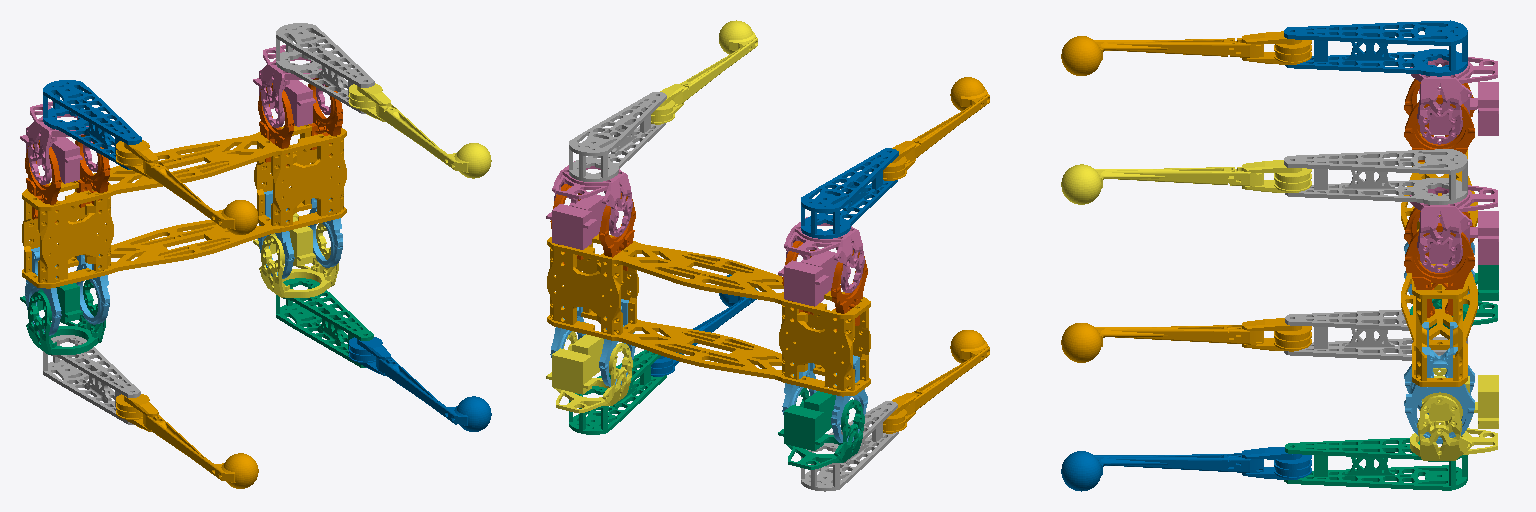
robot.urdf — SImple:
<?xml version="1.0" ?>
<robot name="SImple">

<material name="silver">
  <color rgba="0.700 0.700 0.700 1.000"/>
</material>

<link name="base_link">
  <inertial>
    <origin xyz="-0.49675986701811525 0.1771770371151412 0.32175814914678214" rpy="0 0 0"/>
    <mass value="0.3031669308680312"/>
    <inertia ixx="0.0005505017789097996" iyy="0.0057090607607869215" izz="0.005396693941690386" ixy="-3.090454361691364e-07" iyz="-9.367506770274758e-17" ixz="2.0816681711721685e-17"/>
  </inertial>
  <visual>
    <origin xyz="0 0 0" rpy="0 0 0"/>
    <geometry>
      <mesh filename="meshes/base_link.stl" scale="0.001 0.001 0.001"/>
    </geometry>
    <material name="silver"/>
    <material/>
  </visual>
  <collision>
    <origin xyz="0 0 0" rpy="0 0 0"/>
    <geometry>
      <mesh filename="meshes/base_link.stl" scale="0.001 0.001 0.001"/>
    </geometry>
  </collision>
</link>

<link name="shoulder_socket_bare_1_v1_11">
  <inertial>
    <origin xyz="0.025560544430157428 -0.0173634629277572 -0.02274469323420697" rpy="0 0 0"/>
    <mass value="0.044815237855259746"/>
    <inertia ixx="4.756374991717917e-05" iyy="7.551025191061475e-05" izz="5.8646532445385396e-05" ixy="8.863455197493861e-07" iyz="-5.443962068202822e-07" ixz="1.4297060359951333e-06"/>
  </inertial>
  <visual>
    <origin xyz="0.673276 -0.195219 -0.280393" rpy="0 0 0"/>
    <geometry>
      <mesh filename="meshes/shoulder_socket_bare_1_v1_11.stl" scale="0.001 0.001 0.001"/>
    </geometry>
    <material name="silver"/>
    <material/>
  </visual>
  <collision>
    <origin xyz="0.673276 -0.195219 -0.280393" rpy="0 0 0"/>
    <geometry>
      <mesh filename="meshes/shoulder_socket_bare_1_v1_11.stl" scale="0.001 0.001 0.001"/>
    </geometry>
  </collision>
</link>

<link name="shoulder_bare_1_v1_11">
  <inertial>
    <origin xyz="0.03147471170974603 0.02151965739595474 -0.010196856469469051" rpy="0 0 0"/>
    <mass value="0.10292302681608799"/>
    <inertia ixx="9.866215600323573e-05" iyy="7.669371967806982e-05" izz="9.046452156839802e-05" ixy="5.678991685936774e-08" iyz="-1.1913745138663126e-05" ixz="-9.225282420789738e-08"/>
  </inertial>
  <visual>
    <origin xyz="0.678451 -0.177219 -0.234418" rpy="0 0 0"/>
    <geometry>
      <mesh filename="meshes/shoulder_bare_1_v1_11.stl" scale="0.001 0.001 0.001"/>
    </geometry>
    <material name="silver"/>
    <material/>
  </visual>
  <collision>
    <origin xyz="0.678451 -0.177219 -0.234418" rpy="0 0 0"/>
    <geometry>
      <mesh filename="meshes/shoulder_bare_1_v1_11.stl" scale="0.001 0.001 0.001"/>
    </geometry>
  </collision>
</link>

<link name="shoulder_bare_1_v11">
  <inertial>
    <origin xyz="-0.031525288290257414 0.021519471138341267 -0.010196856469468635" rpy="0 0 0"/>
    <mass value="0.10292302681608799"/>
    <inertia ixx="9.866215600323747e-05" iyy="7.669371967806635e-05" izz="9.046452156840148e-05" ixy="5.678991685936774e-08" iyz="-1.1913745138663126e-05" ixz="-9.225282421136682e-08"/>
  </inertial>
  <visual>
    <origin xyz="0.315451 -0.177218 -0.234418" rpy="0 0 0"/>
    <geometry>
      <mesh filename="meshes/shoulder_bare_1_v11.stl" scale="0.001 0.001 0.001"/>
    </geometry>
    <material name="silver"/>
    <material/>
  </visual>
  <collision>
    <origin xyz="0.315451 -0.177218 -0.234418" rpy="0 0 0"/>
    <geometry>
      <mesh filename="meshes/shoulder_bare_1_v11.stl" scale="0.001 0.001 0.001"/>
    </geometry>
  </collision>
</link>

<link name="LegXIVII.base4_bare_1_v11">
  <inertial>
    <origin xyz="0.007540446682198165 -0.11757825398577894 -0.013901885334578923" rpy="0 0 0"/>
    <mass value="0.08425783736908372"/>
    <inertia ixx="0.0007091647024764702" iyy="1.7445252282704757e-05" izz="0.0007171022470015536" ixy="6.031149162490524e-05" iyz="6.394912965487776e-09" ixz="-9.930829888461778e-09"/>
  </inertial>
  <visual>
    <origin xyz="0.346951 -0.032218 -0.179618" rpy="0 0 0"/>
    <geometry>
      <mesh filename="meshes/LegXIVII.base4_bare_1_v11.stl" scale="0.001 0.001 0.001"/>
    </geometry>
    <material name="silver"/>
    <material/>
  </visual>
  <collision>
    <origin xyz="0.346951 -0.032218 -0.179618" rpy="0 0 0"/>
    <geometry>
      <mesh filename="meshes/LegXIVII.base4_bare_1_v11.stl" scale="0.001 0.001 0.001"/>
    </geometry>
  </collision>
</link>

<link name="shoulder_socket_bare_1_v1Mirror_11">
  <inertial>
    <origin xyz="0.025560646374997553 0.01863544913423798 0.022745200448302028" rpy="0 0 0"/>
    <mass value="0.04481561935245843"/>
    <inertia ixx="4.756434506601563e-05" iyy="7.551101132030266e-05" izz="5.864708107260197e-05" ixy="8.863909571801137e-07" iyz="5.444906398246671e-07" ixz="-1.4298187419742314e-06"/>
  </inertial>
  <visual>
    <origin xyz="0.673276 -0.159219 -0.363123" rpy="0 0 0"/>
    <geometry>
      <mesh filename="meshes/shoulder_socket_bare_1_v1Mirror_11.stl" scale="0.001 0.001 0.001"/>
    </geometry>
    <material name="silver"/>
    <material/>
  </visual>
  <collision>
    <origin xyz="0.673276 -0.159219 -0.363123" rpy="0 0 0"/>
    <geometry>
      <mesh filename="meshes/shoulder_socket_bare_1_v1Mirror_11.stl" scale="0.001 0.001 0.001"/>
    </geometry>
  </collision>
</link>

<link name="shoulder_bare_1_v1Mirror2">
  <inertial>
    <origin xyz="-0.03152528833233337 0.021519662139964174 0.010197149103659209" rpy="0 0 0"/>
    <mass value="0.10292297488236483"/>
    <inertia ixx="9.866212277473765e-05" iyy="7.669361517242262e-05" izz="9.046444386263258e-05" ixy="5.678984783298591e-08" iyz="1.1913732534934302e-05" ixz="9.225279836572176e-08"/>
  </inertial>
  <visual>
    <origin xyz="0.615451 -0.177218 -0.409098" rpy="0 0 0"/>
    <geometry>
      <mesh filename="meshes/shoulder_bare_1_v1Mirror2.stl" scale="0.001 0.001 0.001"/>
    </geometry>
    <material name="silver"/>
    <material/>
  </visual>
  <collision>
    <origin xyz="0.615451 -0.177218 -0.409098" rpy="0 0 0"/>
    <geometry>
      <mesh filename="meshes/shoulder_bare_1_v1Mirror2.stl" scale="0.001 0.001 0.001"/>
    </geometry>
  </collision>
</link>

<link name="Hip_bare_1_v1Mirror_11">
  <inertial>
    <origin xyz="4.234710950790088e-07 -0.05058422561816189 0.01860013552569284" rpy="0 0 0"/>
    <mass value="0.048586299438942826"/>
    <inertia ixx="0.00014114516855578615" iyy="1.7475134174452234e-05" izz="0.00013695057408792417" ixy="-1.541325183804232e-10" iyz="8.332934672387882e-07" ixz="-3.020104999418294e-12"/>
  </inertial>
  <visual>
    <origin xyz="0.346951 -0.177218 -0.459598" rpy="0 0 0"/>
    <geometry>
      <mesh filename="meshes/Hip_bare_1_v1Mirror_11.stl" scale="0.001 0.001 0.001"/>
    </geometry>
    <material name="silver"/>
    <material/>
  </visual>
  <collision>
    <origin xyz="0.346951 -0.177218 -0.459598" rpy="0 0 0"/>
    <geometry>
      <mesh filename="meshes/Hip_bare_1_v1Mirror_11.stl" scale="0.001 0.001 0.001"/>
    </geometry>
  </collision>
</link>

<link name="LegXIVII.base4_bare_1_v1Mirror_11">
  <inertial>
    <origin xyz="0.007540446650054933 -0.11757806585024297 -0.013897815740738673" rpy="0 0 0"/>
    <mass value="0.08425783988504587"/>
    <inertia ixx="0.0007091647134796035" iyy="1.7445253281532513e-05" izz="0.0007171022568680657" ixy="6.0311491779737984e-05" iyz="-6.398339513161849e-09" ixz="9.930995803486553e-09"/>
  </inertial>
  <visual>
    <origin xyz="0.646951 -0.032218 -0.491698" rpy="0 0 0"/>
    <geometry>
      <mesh filename="meshes/LegXIVII.base4_bare_1_v1Mirror_11.stl" scale="0.001 0.001 0.001"/>
    </geometry>
    <material name="silver"/>
    <material/>
  </visual>
  <collision>
    <origin xyz="0.646951 -0.032218 -0.491698" rpy="0 0 0"/>
    <geometry>
      <mesh filename="meshes/LegXIVII.base4_bare_1_v1Mirror_11.stl" scale="0.001 0.001 0.001"/>
    </geometry>
  </collision>
</link>

<link name="shoulder_socket_bare_1_v11">
  <inertial>
    <origin xyz="-0.024279366795131763 0.01733626536840069 -0.021770078073989174" rpy="0 0 0"/>
    <mass value="0.04301073381711514"/>
    <inertia ixx="4.545407958865804e-05" iyy="7.219585766804829e-05" izz="5.6346014963478026e-05" ixy="8.498440310857232e-07" iyz="5.166086429093941e-07" ixz="-9.688718319343995e-08"/>
  </inertial>
  <visual>
    <origin xyz="0.320626 -0.159219 -0.280393" rpy="0 0 0"/>
    <geometry>
      <mesh filename="meshes/shoulder_socket_bare_1_v11.stl" scale="0.001 0.001 0.001"/>
    </geometry>
    <material name="silver"/>
    <material/>
  </visual>
  <collision>
    <origin xyz="0.320626 -0.159219 -0.280393" rpy="0 0 0"/>
    <geometry>
      <mesh filename="meshes/shoulder_socket_bare_1_v11.stl" scale="0.001 0.001 0.001"/>
    </geometry>
  </collision>
</link>

<link name="Hip_bare_1_v1_11">
  <inertial>
    <origin xyz="4.23471094412875e-07 -0.0505842256181612 -0.01859983723211109" rpy="0 0 0"/>
    <mass value="0.04858629943894289"/>
    <inertia ixx="0.00014114516855578399" iyy="1.7475134174454836e-05" izz="0.00013695057408792417" ixy="-1.5413251751306145e-10" iyz="-8.332934672387882e-07" ixz="3.0201063004609008e-12"/>
  </inertial>
  <visual>
    <origin xyz="0.346951 -0.177218 -0.183918" rpy="0 0 0"/>
    <geometry>
      <mesh filename="meshes/Hip_bare_1_v1_11.stl" scale="0.001 0.001 0.001"/>
    </geometry>
    <material name="silver"/>
    <material/>
  </visual>
  <collision>
    <origin xyz="0.346951 -0.177218 -0.183918" rpy="0 0 0"/>
    <geometry>
      <mesh filename="meshes/Hip_bare_1_v1_11.stl" scale="0.001 0.001 0.001"/>
    </geometry>
  </collision>
</link>

<link name="LegXIVII.base4_bare_1_v1Mirror2">
  <inertial>
    <origin xyz="0.007540446650052768 -0.11757825210785741 -0.013897815740742336" rpy="0 0 0"/>
    <mass value="0.08425783988504587"/>
    <inertia ixx="0.0007091647134796104" iyy="1.7445253281535983e-05" izz="0.0007171022568680831" ixy="6.031149177974189e-05" iyz="-6.3983395153302536e-09" ixz="9.930995803486553e-09"/>
  </inertial>
  <visual>
    <origin xyz="0.346951 -0.032218 -0.491698" rpy="0 0 0"/>
    <geometry>
      <mesh filename="meshes/LegXIVII.base4_bare_1_v1Mirror2.stl" scale="0.001 0.001 0.001"/>
    </geometry>
    <material name="silver"/>
    <material/>
  </visual>
  <collision>
    <origin xyz="0.346951 -0.032218 -0.491698" rpy="0 0 0"/>
    <geometry>
      <mesh filename="meshes/LegXIVII.base4_bare_1_v1Mirror2.stl" scale="0.001 0.001 0.001"/>
    </geometry>
  </collision>
</link>

<link name="Hip_bare_1_v1Mirror1">
  <inertial>
    <origin xyz="4.2347109574514263e-07 -0.05058403936054723 0.01860013552569434" rpy="0 0 0"/>
    <mass value="0.048586299438942826"/>
    <inertia ixx="0.0001411451685557931" iyy="1.7475134174459173e-05" izz="0.0001369505740879233" ixy="-1.541325183804232e-10" iyz="8.332934672383545e-07" ixz="-3.020104999418294e-12"/>
  </inertial>
  <visual>
    <origin xyz="0.646951 -0.177218 -0.459598" rpy="0 0 0"/>
    <geometry>
      <mesh filename="meshes/Hip_bare_1_v1Mirror1.stl" scale="0.001 0.001 0.001"/>
    </geometry>
    <material name="silver"/>
    <material/>
  </visual>
  <collision>
    <origin xyz="0.646951 -0.177218 -0.459598" rpy="0 0 0"/>
    <geometry>
      <mesh filename="meshes/Hip_bare_1_v1Mirror1.stl" scale="0.001 0.001 0.001"/>
    </geometry>
  </collision>
</link>

<link name="shoulder_socket_bare_1_v1Mirror2">
  <inertial>
    <origin xyz="-0.02555971426040521 0.017363044783754944 0.03693520044830295" rpy="0 0 0"/>
    <mass value="0.04481561935245843"/>
    <inertia ixx="4.756434506601563e-05" iyy="7.55110113203096e-05" izz="5.864708107260284e-05" ixy="8.863909571801137e-07" iyz="-5.444906398242334e-07" ixz="1.429818741973364e-06"/>
  </inertial>
  <visual>
    <origin xyz="0.320626 -0.159219 -0.348933" rpy="0 0 0"/>
    <geometry>
      <mesh filename="meshes/shoulder_socket_bare_1_v1Mirror2.stl" scale="0.001 0.001 0.001"/>
    </geometry>
    <material name="silver"/>
    <material/>
  </visual>
  <collision>
    <origin xyz="0.320626 -0.159219 -0.348933" rpy="0 0 0"/>
    <geometry>
      <mesh filename="meshes/shoulder_socket_bare_1_v1Mirror2.stl" scale="0.001 0.001 0.001"/>
    </geometry>
  </collision>
</link>

<link name="shoulder_bare_1_v1Mirror_11">
  <inertial>
    <origin xyz="0.03147471166766552 0.021519475882350536 0.010197149103659986" rpy="0 0 0"/>
    <mass value="0.10292297488236483"/>
    <inertia ixx="9.866212277473418e-05" iyy="7.669361517241916e-05" izz="9.04644438626187e-05" ixy="5.67898478286491e-08" iyz="1.1913732534934302e-05" ixz="9.225279836051758e-08"/>
  </inertial>
  <visual>
    <origin xyz="0.378451 -0.177218 -0.409098" rpy="0 0 0"/>
    <geometry>
      <mesh filename="meshes/shoulder_bare_1_v1Mirror_11.stl" scale="0.001 0.001 0.001"/>
    </geometry>
    <material name="silver"/>
    <material/>
  </visual>
  <collision>
    <origin xyz="0.378451 -0.177218 -0.409098" rpy="0 0 0"/>
    <geometry>
      <mesh filename="meshes/shoulder_bare_1_v1Mirror_11.stl" scale="0.001 0.001 0.001"/>
    </geometry>
  </collision>
</link>

<link name="Hip_bare_1_v11">
  <inertial>
    <origin xyz="4.234710982986556e-07 -0.0505840393605467 -0.018599837232111838" rpy="0 0 0"/>
    <mass value="0.04858629943894289"/>
    <inertia ixx="0.00014114516855578485" iyy="1.7475134174445295e-05" izz="0.00013695057408791636" ixy="-1.5413251924778493e-10" iyz="-8.33293467239005e-07" ixz="3.020104999418294e-12"/>
  </inertial>
  <visual>
    <origin xyz="0.646951 -0.177219 -0.183918" rpy="0 0 0"/>
    <geometry>
      <mesh filename="meshes/Hip_bare_1_v11.stl" scale="0.001 0.001 0.001"/>
    </geometry>
    <material name="silver"/>
    <material/>
  </visual>
  <collision>
    <origin xyz="0.646951 -0.177219 -0.183918" rpy="0 0 0"/>
    <geometry>
      <mesh filename="meshes/Hip_bare_1_v11.stl" scale="0.001 0.001 0.001"/>
    </geometry>
  </collision>
</link>

<link name="LegXIVII.base4_bare_1_v1_11">
  <inertial>
    <origin xyz="0.007540446682202773 -0.1175780677281621 -0.013901885334580338" rpy="0 0 0"/>
    <mass value="0.08425783736908372"/>
    <inertia ixx="0.0007091647024764689" iyy="1.7445252282692614e-05" izz="0.0007171022470015345" ixy="6.031149162490437e-05" iyz="6.394912963102531e-09" ixz="-9.930829887594417e-09"/>
  </inertial>
  <visual>
    <origin xyz="0.646951 -0.032219 -0.179618" rpy="0 0 0"/>
    <geometry>
      <mesh filename="meshes/LegXIVII.base4_bare_1_v1_11.stl" scale="0.001 0.001 0.001"/>
    </geometry>
    <material name="silver"/>
    <material/>
  </visual>
  <collision>
    <origin xyz="0.646951 -0.032219 -0.179618" rpy="0 0 0"/>
    <geometry>
      <mesh filename="meshes/LegXIVII.base4_bare_1_v1_11.stl" scale="0.001 0.001 0.001"/>
    </geometry>
  </collision>
</link>

<joint name="Rigid_FR" type="fixed">
  <origin xyz="-0.673276 0.195219 0.280393" rpy="0 0 0"/>
  <parent link="base_link"/>
  <child link="shoulder_socket_bare_1_v1_11"/>
</joint>

<joint name="Revolute_FR_Hip" type="revolute">
  <origin xyz="-0.005175 -0.018 -0.045975" rpy="0 0 0"/>
  <parent link="shoulder_socket_bare_1_v1_11"/>
  <child link="shoulder_bare_1_v1_11"/>
  <axis xyz="1.0 0.0 0.0"/>
  <limit>
    <lower>-1.0472</lower>
    <upper>0.3491</upper>
  </limit>
</joint>
<transmission name="Revolute_FR_Hip_tran">
  <type>transmission_interface/SimpleTransmission</type>
  <joint name="Revolute_FR_Hip">
    <hardwareInterface>PositionJointInterface</hardwareInterface>
  </joint>
  <actuator name="Revolute_FR_Hip_actr">
    <hardwareInterface>PositionJointInterface</hardwareInterface>
    <mechanicalReduction>1.8</mechanicalReduction>
  </actuator>
</transmission>

<joint name="Revolute_BR_Hip" type="revolute">
  <origin xyz="0.005175 0.017999 -0.045975" rpy="0 0 0"/>
  <parent link="shoulder_socket_bare_1_v11"/>
  <child link="shoulder_bare_1_v11"/>
  <axis xyz="1.0 0.0 0.0"/>
  <limit>
    <lower>-1.0472</lower>
    <upper>0.3491</upper>
  </limit>
</joint>
<transmission name="Revolute_BR_Hip_tran">
  <type>transmission_interface/SimpleTransmission</type>
  <joint name="Revolute_BR_Hip">
    <hardwareInterface>PositionJointInterface</hardwareInterface>
  </joint>
  <actuator name="Revolute_BR_Hip_actr">
    <hardwareInterface>PositionJointInterface</hardwareInterface>
    <mechanicalReduction>1.8</mechanicalReduction>
  </actuator>
</transmission>

<joint name="Revolute_BR_Knee" type="revolute">
  <origin xyz="0.0 -0.145 -0.0043" rpy="0 0 0"/>
  <parent link="Hip_bare_1_v1_11"/>
  <child link="LegXIVII.base4_bare_1_v11"/>
  <axis xyz="-0.0 0.0 1.0"/>
  <limit>
    <lower>-0.3491</lower>
    <upper>2.2689</upper>
  </limit>
</joint>
<transmission name="Revolute_BR_Knee_tran">
  <type>transmission_interface/SimpleTransmission</type>
  <joint name="Revolute_BR_Knee">
    <hardwareInterface>PositionJointInterface</hardwareInterface>
  </joint>
  <actuator name="Revolute_BR_Knee_actr">
    <hardwareInterface>PositionJointInterface</hardwareInterface>
    <mechanicalReduction>1.8</mechanicalReduction>
  </actuator>
</transmission>

<joint name="Rigid_FL" type="fixed">
  <origin xyz="-0.673276 0.159219 0.363123" rpy="0 0 0"/>
  <parent link="base_link"/>
  <child link="shoulder_socket_bare_1_v1Mirror_11"/>
</joint>

<joint name="Revolute_FL_Hip" type="continuous">
  <origin xyz="0.057825 0.017999 0.045975" rpy="0 0 0"/>
  <parent link="shoulder_socket_bare_1_v1Mirror_11"/>
  <child link="shoulder_bare_1_v1Mirror2"/>
  <axis xyz="-1.0 -0.0 -0.0"/>
  <limit>
    <lower>-1.0472</lower>
    <upper>0.3491</upper>
  </limit>
</joint>

<transmission name="Revolute_FL_Hip_tran">
  <type>transmission_interface/SimpleTransmission</type>
  <joint name="Revolute_FL_Hip">
    <hardwareInterface>PositionJointInterface</hardwareInterface>
  </joint>
  <actuator name="Revolute_FL_Hip_actr">
    <hardwareInterface>PositionJointInterface</hardwareInterface>
    <mechanicalReduction>1.8</mechanicalReduction>
  </actuator>
</transmission>

<joint name="Revolute_BL_Thigh" type="revolute">
  <origin xyz="0.0315 0.0 0.0505" rpy="0 0 0"/>
  <parent link="shoulder_bare_1_v1Mirror_11"/>
  <child link="Hip_bare_1_v1Mirror_11"/>
  <axis xyz="-0.0 0.0 -1.0"/>
  <limit>
      <lower>-1.2217</lower>
      <upper>1.2217</upper>
  </limit>
</joint>

<transmission name="Revolute_BL_Thigh_tran">
  <type>transmission_interface/SimpleTransmission</type>
  <joint name="Revolute_BL_Thigh">
    <hardwareInterface>PositionJointInterface</hardwareInterface>
  </joint>
  <actuator name="Revolute_BL_Thigh_actr">
    <hardwareInterface>PositionJointInterface</hardwareInterface>
    <mechanicalReduction>1.8</mechanicalReduction>
  </actuator>
</transmission>

<joint name="Revolute_FL_Knee" type="revolute">
  <origin xyz="0.0 -0.145 0.0321" rpy="0 0 0"/>
  <parent link="Hip_bare_1_v1Mirror1"/>
  <child link="LegXIVII.base4_bare_1_v1Mirror_11"/>
  <axis xyz="0.0 -0.0 1.0"/>
  <limit>
    <lower>-0.3491</lower>
    <upper>2.2689</upper>
  </limit>
</joint>
<transmission name="Revolute_FL_Knee_tran">
  <type>transmission_interface/SimpleTransmission</type>
  <joint name="Revolute_FL_Knee">
    <hardwareInterface>PositionJointInterface</hardwareInterface>
  </joint>
  <actuator name="Revolute_FL_Knee_actr">
    <hardwareInterface>PositionJointInterface</hardwareInterface>
    <mechanicalReduction>1.8</mechanicalReduction>
  </actuator>
</transmission>

<joint name="Rigid_BR" type="fixed">
  <origin xyz="-0.320626 0.159219 0.280393" rpy="0 0 0"/>
  <parent link="base_link"/>
  <child link="shoulder_socket_bare_1_v11"/>
</joint>

<joint name="Revolute_BR_Thigh" type="revolute">
  <origin xyz="-0.0315 0.0 -0.0505" rpy="0 0 0"/>
  <parent link="shoulder_bare_1_v11"/>
  <child link="Hip_bare_1_v1_11"/>
  <axis xyz="-0.0 0.0 -1.0"/>
  <limit>
      <lower>-1.2217</lower>
      <upper>1.2217</upper>
  </limit>
</joint>
<transmission name="Revolute_BR_Thigh_tran">
  <type>transmission_interface/SimpleTransmission</type>
  <joint name="Revolute_BR_Thigh">
    <hardwareInterface>PositionJointInterface</hardwareInterface>
  </joint>
  <actuator name="Revolute_BR_Thigh_actr">
    <hardwareInterface>PositionJointInterface</hardwareInterface>
    <mechanicalReduction>1.8</mechanicalReduction>
  </actuator>
</transmission>

<joint name="Revolute_BL_Knee" type="revolute">
  <origin xyz="0.0 -0.145 0.0321" rpy="0 0 0"/>
  <parent link="Hip_bare_1_v1Mirror_11"/>
  <child link="LegXIVII.base4_bare_1_v1Mirror2"/>
  <axis xyz="0.0 -0.0 1.0"/>
  <limit>
    <lower>-2.2689</lower>
    <upper>0.3491</upper>
  </limit>
</joint>
<transmission name="Revolute_BL_Knee_tran">
  <type>transmission_interface/SimpleTransmission</type>
  <joint name="Revolute_BL_Knee">
    <hardwareInterface>PositionJointInterface</hardwareInterface>
  </joint>
  <actuator name="Revolute_BL_Knee_actr">
    <hardwareInterface>PositionJointInterface</hardwareInterface>
    <mechanicalReduction>1.8</mechanicalReduction>
  </actuator>
</transmission>

<joint name="Revolute_FL_Thigh" type="revolute">
  <origin xyz="-0.0315 0.0 0.0505" rpy="0 0 0"/>
  <parent link="shoulder_bare_1_v1Mirror2"/>
  <child link="Hip_bare_1_v1Mirror1"/>
  <axis xyz="0.0 0.0 -1.0"/>
  <limit>
      <lower>-1.2217</lower>
      <upper>1.2217</upper>
  </limit>
</joint>

<transmission name="Revolute_FL_Thigh_tran">
  <type>transmission_interface/SimpleTransmission</type>
  <joint name="Revolute_FL_Thigh">
    <hardwareInterface>PositionJointInterface</hardwareInterface>
  </joint>
  <actuator name="Revolute_FL_Thigh_actr">
    <hardwareInterface>PositionJointInterface</hardwareInterface>
    <mechanicalReduction>1.8</mechanicalReduction>
  </actuator>
</transmission>

<joint name="Rigid_BL" type="fixed">
  <origin xyz="-0.320626 0.159219 0.348933" rpy="0 0 0"/>
  <parent link="base_link"/>
  <child link="shoulder_socket_bare_1_v1Mirror2"/>
</joint>

<joint name="Revolute_BL_Hip" type="revolute">
  <origin xyz="-0.057825 0.017999 0.060165" rpy="0 0 0"/>
  <parent link="shoulder_socket_bare_1_v1Mirror2"/>
  <child link="shoulder_bare_1_v1Mirror_11"/>
  <axis xyz="-1.0 -0.0 0.0"/>
  <limit>
    <lower>-1.0472</lower>
    <upper>0.3491</upper>
  </limit>
</joint>

<transmission name="Revolute_BL_Hip_tran">
  <type>transmission_interface/SimpleTransmission</type>
  <joint name="Revolute_BL_Hip">
    <hardwareInterface>PositionJointInterface</hardwareInterface>
  </joint>
  <actuator name="Revolute_BL_Hip_actr">
    <hardwareInterface>PositionJointInterface</hardwareInterface>
    <mechanicalReduction>1.8</mechanicalReduction>
  </actuator>
</transmission>

<joint name="Revolute_FR_Thigh" type="revolute">
  <origin xyz="0.0315 0.0 -0.0505" rpy="0 0 0"/>
  <parent link="shoulder_bare_1_v1_11"/>
  <child link="Hip_bare_1_v11"/>
  <axis xyz="0.0 0.0 -1.0"/>
  <limit>
      <lower>-1.2217</lower>
      <upper>1.2217</upper>
  </limit>
</joint>

<transmission name="Revolute_FR_Thigh_tran">
  <type>transmission_interface/SimpleTransmission</type>
  <joint name="Revolute_FR_Thigh">
    <hardwareInterface>PositionJointInterface</hardwareInterface>
  </joint>
  <actuator name="Revolute_FR_Thigh_actr">
    <hardwareInterface>PositionJointInterface</hardwareInterface>
    <mechanicalReduction>1.8</mechanicalReduction>
  </actuator>
</transmission>

<joint name="Revolute_FR_Knee" type="revolute">
  <origin xyz="0.0 -0.145 -0.0043" rpy="0 0 0"/>
  <parent link="Hip_bare_1_v11"/>
  <child link="LegXIVII.base4_bare_1_v1_11"/>
  <axis xyz="-0.0 -0.0 1.0"/>
  <limit>
    <lower>-0.3491</lower>
    <upper>2.2689</upper>
  </limit>
</joint>

<transmission name="Revolute_FR_Knee_tran">
  <type>transmission_interface/SimpleTransmission</type>
  <joint name="Revolute_FR_Knee">
    <hardwareInterface>PositionJointInterface</hardwareInterface>
  </joint>
  <actuator name="Revolute_FR_Knee_actr">
    <hardwareInterface>PositionJointInterface</hardwareInterface>
    <mechanicalReduction>1.8</mechanicalReduction>
  </actuator>
</transmission>

</robot>

--- What the picture shows (computed from the rendered views, not written in the file) ---
Views: 3 orthographic renders of the robot side by side, from view 1: azimuth 30°, elevation 25°; view 2: azimuth 150°, elevation 25°; view 3: azimuth 270°, elevation 25°.
Model SImple with 17 links and 16 joints (11 revolute, 1 continuous, 4 fixed), rooted at base_link, posed every joint at zero.
Links seen in each view (by area): view 1: base_link, Hip_bare_1_v1Mirror1, Hip_bare_1_v1Mirror_11, Hip_bare_1_v11, Hip_bare_1_v1_11, shoulder_bare_1_v11, shoulder_bare_1_v1_11, LegXIVII.base4_bare_1_v11, LegXIVII.base4_bare_1_v1_11, LegXIVII.base4_bare_1_v1Mirror2, LegXIVII.base4_bare_1_v1Mirror_11, shoulder_bare_1_v1Mirror_11 (+5 smaller); view 2: base_link, Hip_bare_1_v1Mirror1, Hip_bare_1_v1Mirror_11, shoulder_bare_1_v1Mirror2, shoulder_bare_1_v1Mirror_11, shoulder_bare_1_v11, shoulder_bare_1_v1_11, Hip_bare_1_v11, LegXIVII.base4_bare_1_v1_11, LegXIVII.base4_bare_1_v1Mirror2, LegXIVII.base4_bare_1_v1Mirror_11, Hip_bare_1_v1_11 (+5 smaller); view 3: Hip_bare_1_v1Mirror1, Hip_bare_1_v1Mirror_11, Hip_bare_1_v1_11, base_link, LegXIVII.base4_bare_1_v11, LegXIVII.base4_bare_1_v1_11, LegXIVII.base4_bare_1_v1Mirror_11, LegXIVII.base4_bare_1_v1Mirror2, shoulder_bare_1_v1Mirror_11, shoulder_bare_1_v1Mirror2, shoulder_bare_1_v11, Hip_bare_1_v11 (+4 smaller).
Boxes of the visible links, <box> form: base_link: <box>22,123,346,288</box>; Hip_bare_1_v1Mirror1: <box>43,80,141,169</box>; Hip_bare_1_v1Mirror_11: <box>276,23,374,113</box>; Hip_bare_1_v11: <box>43,335,140,424</box>; Hip_bare_1_v1_11: <box>276,278,373,367</box>; shoulder_bare_1_v11: <box>253,213,338,297</box>; shoulder_bare_1_v1_11: <box>20,280,105,354</box>; LegXIVII.base4_bare_1_v11: <box>348,337,491,431</box>; LegXIVII.base4_bare_1_v1_11: <box>116,394,258,488</box>; LegXIVII.base4_bare_1_v1Mirror2: <box>348,83,491,178</box>; LegXIVII.base4_bare_1_v1Mirror_11: <box>116,140,258,234</box>; shoulder_bare_1_v1Mirror_11: <box>253,45,330,127</box>; base_link: <box>547,234,870,396</box>; Hip_bare_1_v1Mirror1: <box>801,148,898,238</box>; Hip_bare_1_v1Mirror_11: <box>569,92,666,181</box>; shoulder_bare_1_v1Mirror2: <box>778,217,864,306</box>; shoulder_bare_1_v1Mirror_11: <box>546,161,632,249</box>; shoulder_bare_1_v11: <box>546,331,632,413</box>; shoulder_bare_1_v1_11: <box>778,388,864,469</box>; Hip_bare_1_v11: <box>801,401,898,491</box>; LegXIVII.base4_bare_1_v1_11: <box>883,330,989,433</box>; LegXIVII.base4_bare_1_v1Mirror2: <box>651,20,757,124</box>; LegXIVII.base4_bare_1_v1Mirror_11: <box>883,77,989,180</box>; Hip_bare_1_v1_11: <box>569,350,666,434</box>; Hip_bare_1_v1Mirror1: <box>1284,20,1467,76</box>; Hip_bare_1_v1Mirror_11: <box>1284,149,1467,204</box>; Hip_bare_1_v1_11: <box>1284,438,1467,490</box>; base_link: <box>1401,133,1477,386</box>; LegXIVII.base4_bare_1_v11: <box>1061,447,1311,491</box>; LegXIVII.base4_bare_1_v1_11: <box>1061,318,1311,362</box>; LegXIVII.base4_bare_1_v1Mirror_11: <box>1061,31,1311,75</box>; LegXIVII.base4_bare_1_v1Mirror2: <box>1061,160,1311,204</box>; shoulder_bare_1_v1Mirror_11: <box>1410,185,1498,272</box>; shoulder_bare_1_v1Mirror2: <box>1410,57,1498,144</box>; shoulder_bare_1_v11: <box>1410,368,1498,460</box>; Hip_bare_1_v11: <box>1284,309,1467,360</box>.
Bounding box of the posed robot: 0.398 × 0.4316 × 0.3521 m (x, y, z).
17 mesh visuals loaded from 17 distinct referenced files (17 binary STL).